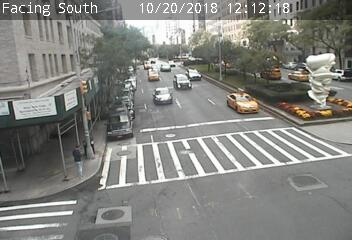car: (227, 88, 257, 113), (153, 87, 172, 104), (173, 74, 192, 89), (185, 69, 201, 80), (147, 68, 159, 81), (160, 63, 170, 71), (144, 62, 152, 70)
